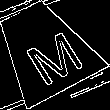M_NW: (9, 16, 80, 82)
